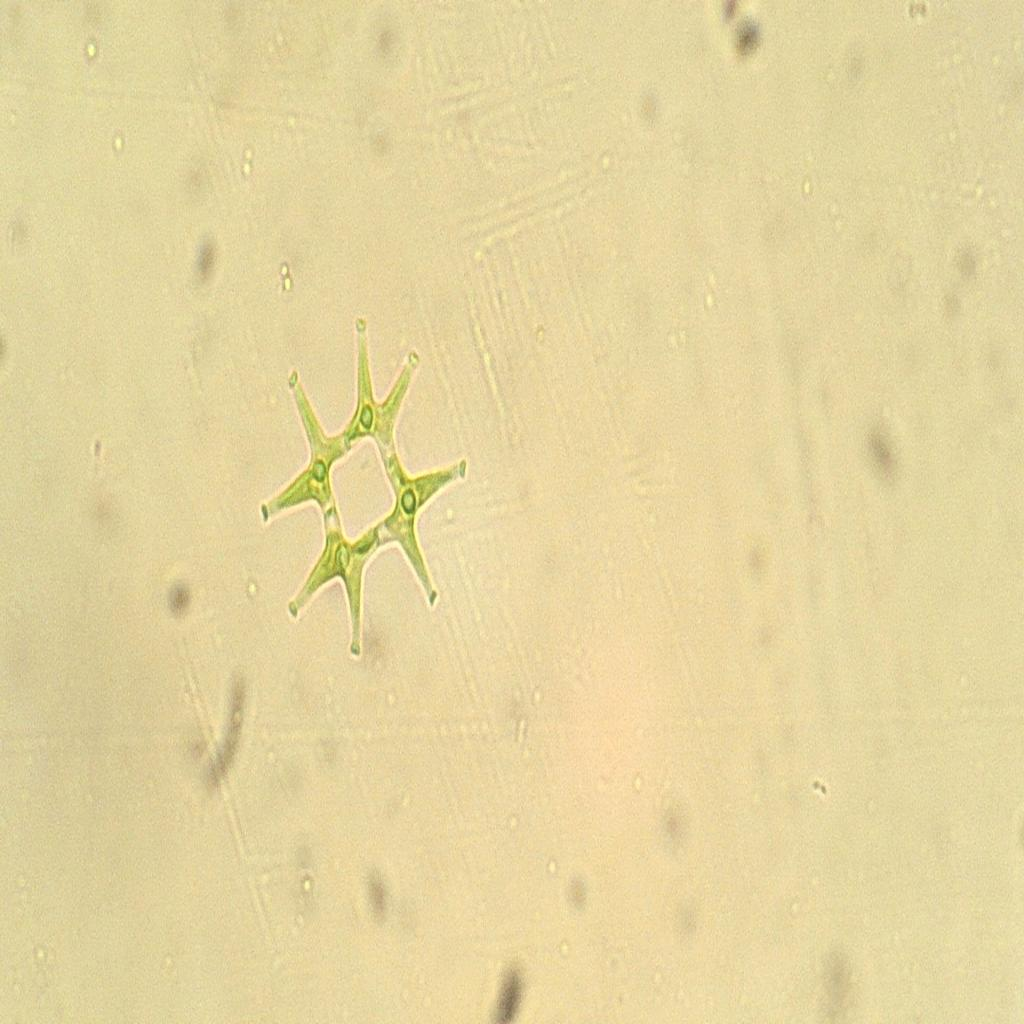Pediastrum_10: (234, 286, 478, 686)
